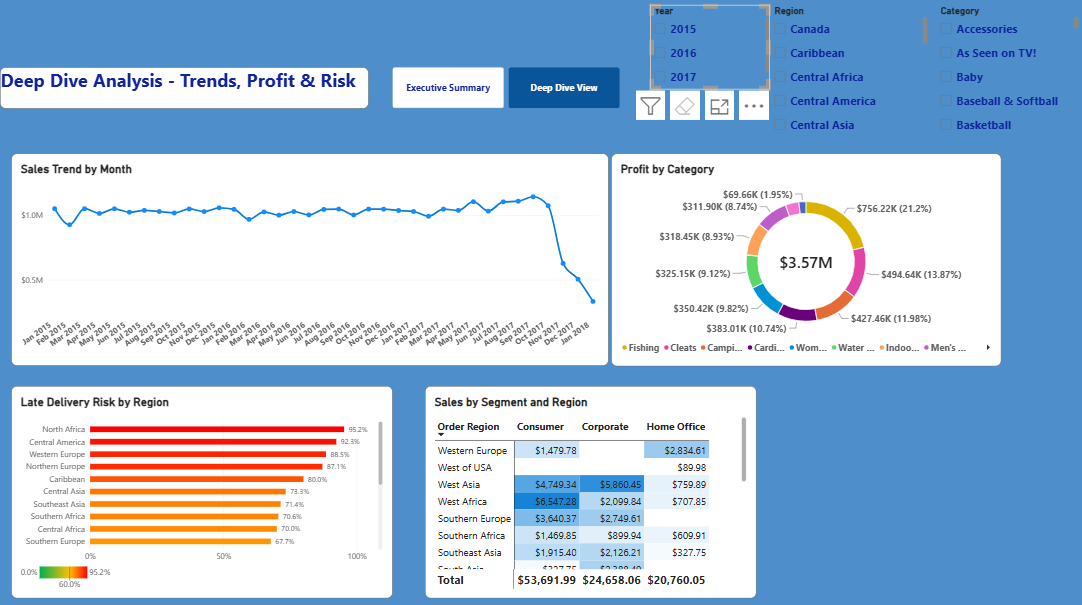

This screenshot's page, from the dashboard's own definition file:
{"tool":"powerbi","page":{"name":" Deep Dive View","canvas":[1920,1080],"ordinal":1},"visuals":[{"type":"donutChart","title":"Profit by Category","fields":{"Category":["DimProduct.Category Name"],"Y":["_Measure.Total Profit"]},"box":[1075.7,277.2,686,374],"z":0},{"type":"clusteredBarChart","title":"Late Delivery Risk by Region","fields":{"Category":["DimLocation.Order Region"],"Y":["_Measure.Late Delivery %"]},"box":[19.8,686.3,670.9,374],"z":1000},{"type":"lineChart","title":"Sales Trend by Month","fields":{"Category":["DimDate.MonthYear"],"Y":["_Measure.Total Sales"]},"box":[19.8,277.2,1051.5,374],"z":2000},{"type":"textbox","box":[0,125.4,648.9,72.6],"z":4000},{"type":"slicer","fields":{"Values":["DimDate.Year"]},"box":[1143.9,15.4,211.2,149.6],"z":4001},{"type":"slicer","fields":{"Values":["DimLocation.Order Region"]},"box":[1355.1,15.4,277.2,220],"z":4002},{"type":"slicer","fields":{"Values":["DimProduct.Category Name"]},"box":[1647.7,15.4,250.8,220],"z":4003},{"type":"pivotTable","title":"Sales by Segment and Region","fields":{"Columns":["DimCustomer.Customer Segment"],"Rows":["DimLocation.Order Region"],"Values":["_Measure.Total Sales"]},"box":[747.9,686.3,583,374],"z":4004},{"type":"pageNavigator","box":[690.7,125.4,400.4,72.6],"z":4005}]}

Visuals, with their boxes in screenshot pixels (x1, y1, x2, y2), scaled from the page's 1920x1080 canvas onto the 1082x605 screenshot:
"Profit by Category" donutChart: (x1=606, y1=155, x2=993, y2=365)
"Late Delivery Risk by Region" clusteredBarChart: (x1=11, y1=384, x2=389, y2=594)
"Sales Trend by Month" lineChart: (x1=11, y1=155, x2=604, y2=365)
textbox: (x1=0, y1=70, x2=366, y2=111)
slicer - DimDate.Year: (x1=645, y1=9, x2=764, y2=92)
slicer - DimLocation.Order Region: (x1=764, y1=9, x2=920, y2=132)
slicer - DimProduct.Category Name: (x1=929, y1=9, x2=1070, y2=132)
"Sales by Segment and Region" pivotTable: (x1=421, y1=384, x2=750, y2=594)
pageNavigator: (x1=389, y1=70, x2=615, y2=111)
